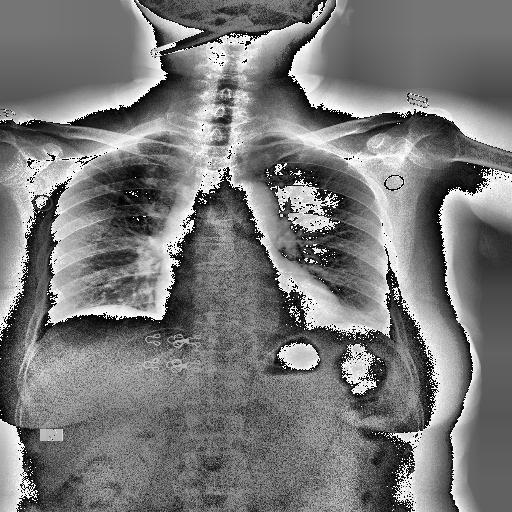0- Aortic enlargement: (218, 176, 280, 240), (220, 180, 280, 240), (214, 180, 280, 234)
11- Pleural thickening: (251, 128, 300, 140), (130, 130, 184, 140)
3- Cardiomegaly: (151, 284, 345, 338), (152, 283, 350, 335)
